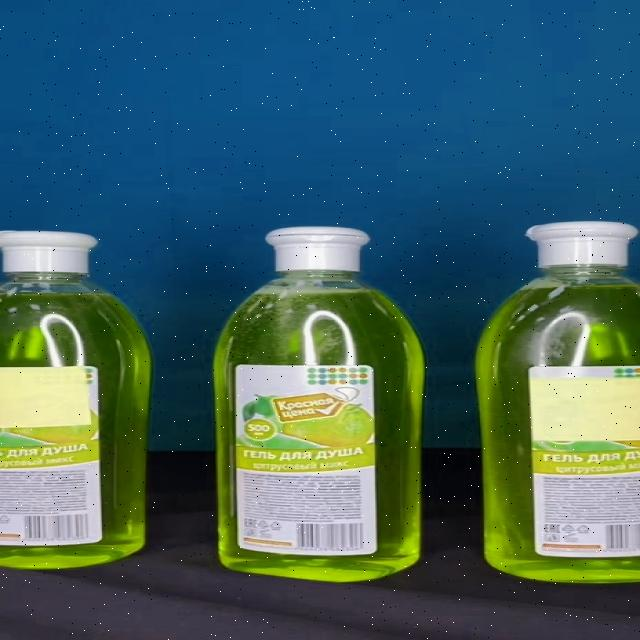Bottle: (215, 227, 425, 582), (476, 223, 640, 583)
Cap: (528, 222, 637, 266), (264, 226, 371, 270)
